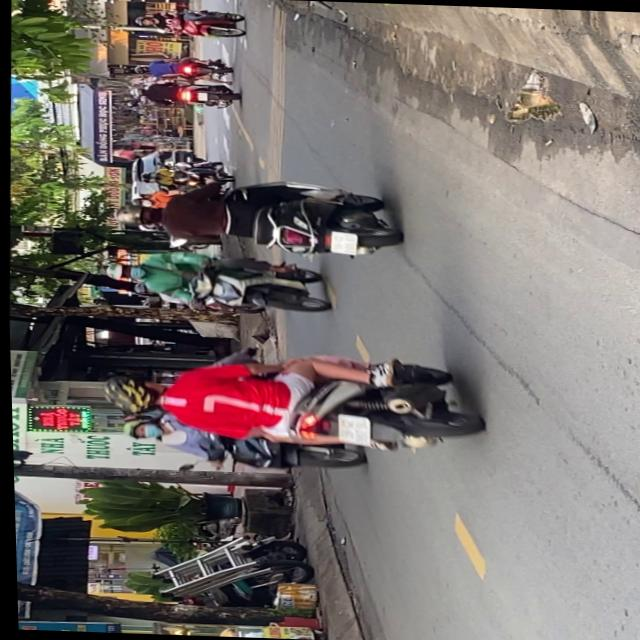helmet: (99, 375, 165, 415), (114, 203, 159, 227), (117, 419, 160, 441), (102, 262, 140, 282)
licenseplate: (96, 342, 482, 456), (110, 174, 401, 260), (99, 248, 329, 318)
nohelmet: (335, 413, 368, 444), (328, 231, 356, 254)
